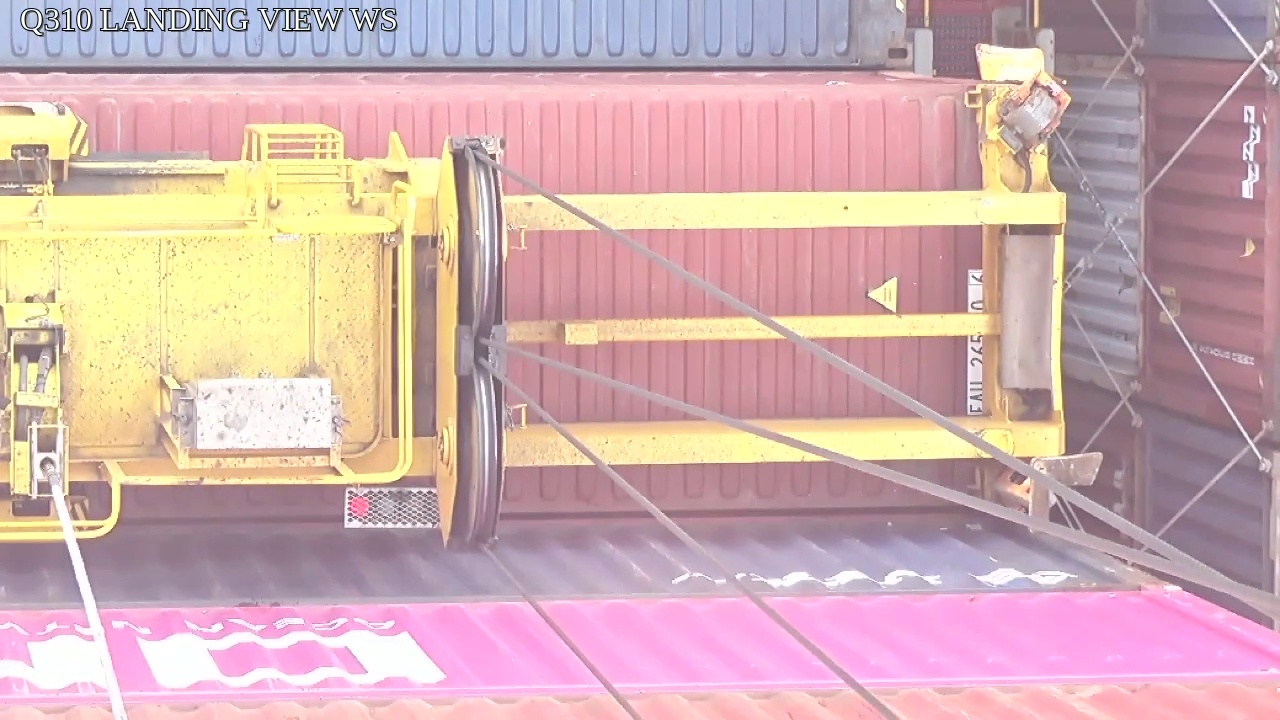right: (428, 135, 508, 558)
